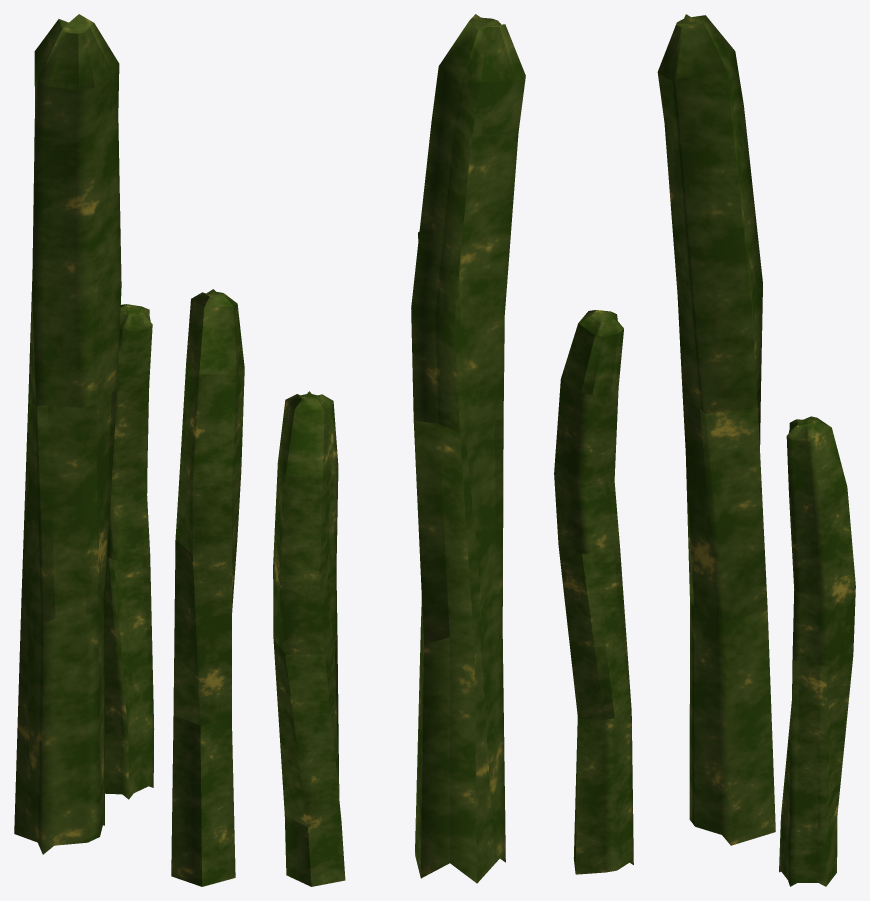
File: VEG0210044.fbx
3 views of the same model, side by side, from view 1: azimuth 30°, elevation 25°; view 2: azimuth 150°, elevation 25°; view 3: azimuth 270°, elevation 25° (orthographic). The views are drawn at different scales.
Parts seen in each view (by area): view 1: smVEG0210044; view 2: smVEG0210044; view 3: smVEG0210044.
Boxes of the visible parts, x1,y1,x2,y2 form: smVEG0210044: (14, 14, 244, 886); smVEG0210044: (273, 14, 525, 886); smVEG0210044: (554, 14, 855, 886).
Size of the model in its own units: 81.45 by 360 by 122.
Materials: 1 (1 with a texture image).
